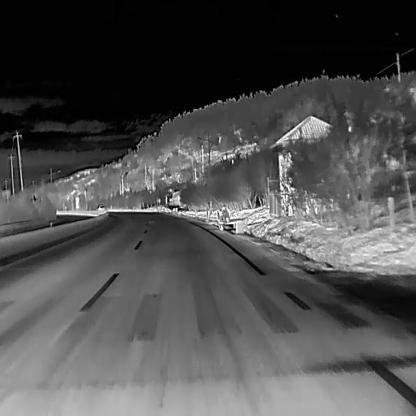car: (95, 203, 106, 211)
